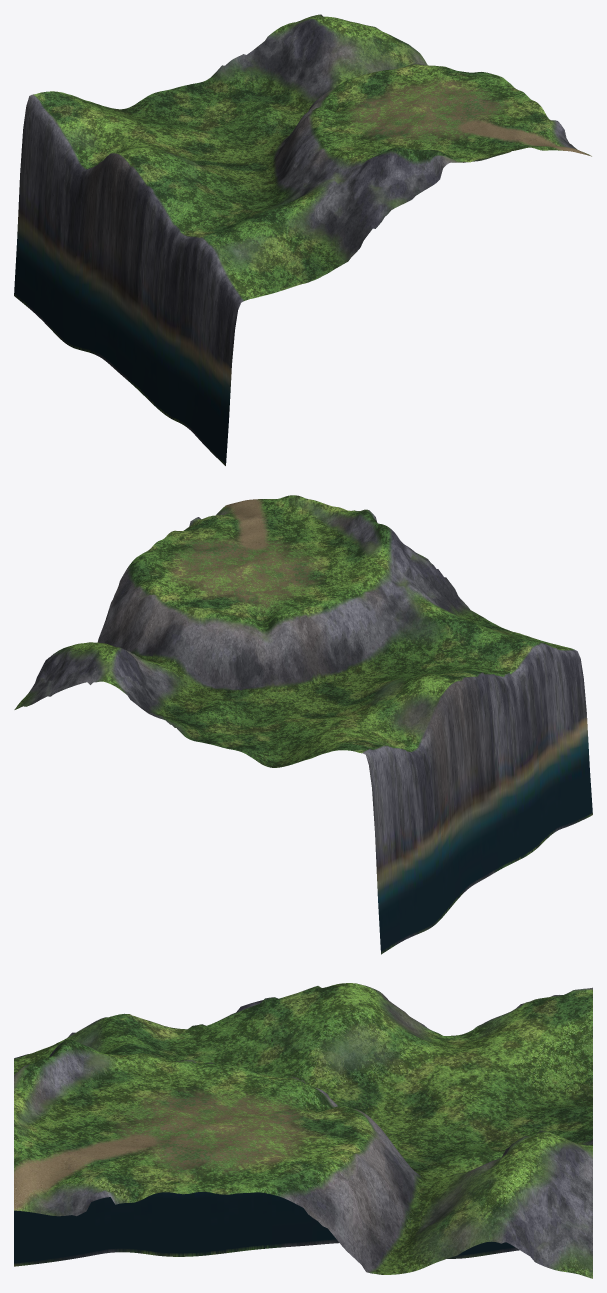
3 renders of one model, top to bottom at view 1: azimuth 30°, elevation 25°; view 2: azimuth 150°, elevation 25°; view 3: azimuth 270°, elevation 25°, orthographic. The views are drawn at different scales.
Parts seen in each view (by area): view 1: t000_128; view 2: t000_128; view 3: t000_128.
Part boxes in pixels (x1,y1,x2,y2): t000_128: (14,14,591,465); t000_128: (14,495,592,954); t000_128: (14,983,592,1278).
Size of the model in its own units: 64 by 42.97 by 64.
1 material, 1 textured.
